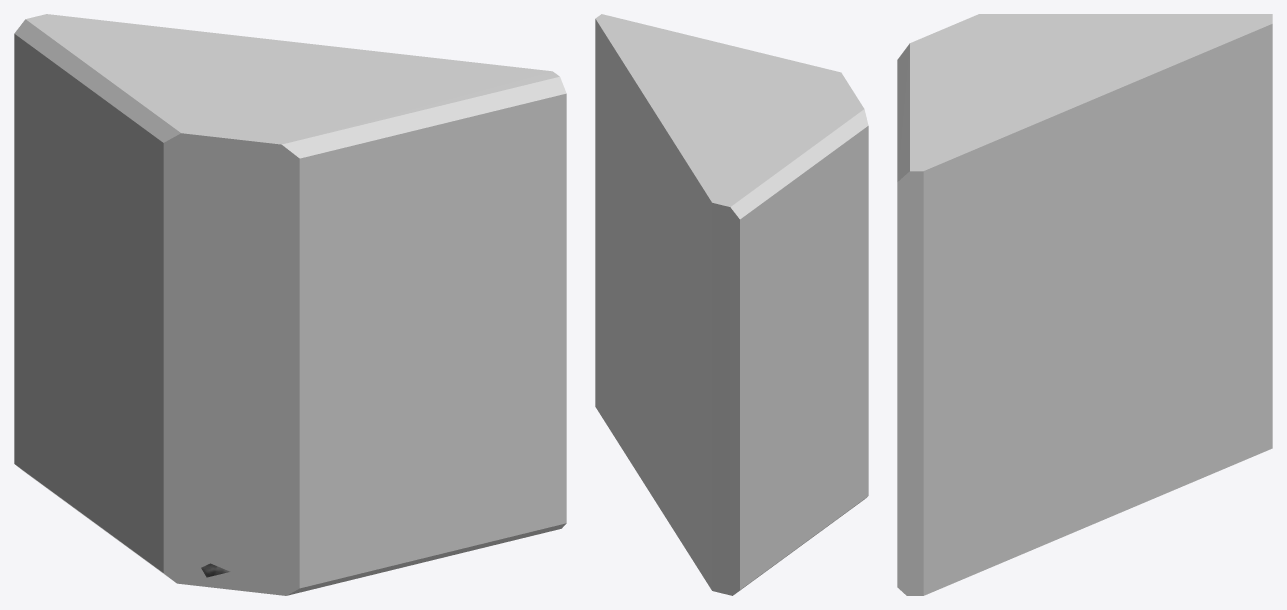
Rendered from SM_house_wall_09.fbx.
3 renders of one model, left to right at view 1: azimuth 30°, elevation 25°; view 2: azimuth 150°, elevation 25°; view 3: azimuth 270°, elevation 25°, orthographic. The views are drawn at different scales.
Visible parts, largest first — view 1: SM_house_wall_09_ConvexHulls; view 2: SM_house_wall_09_ConvexHulls; view 3: SM_house_wall_09_ConvexHulls.
Part boxes in pixels (x1=…): SM_house_wall_09_ConvexHulls: x1=14, y1=14, x2=566, y2=595; SM_house_wall_09_ConvexHulls: x1=595, y1=14, x2=868, y2=595; SM_house_wall_09_ConvexHulls: x1=897, y1=14, x2=1272, y2=595.
Bounding box in the file's own units: 410 × 401 × 500.
